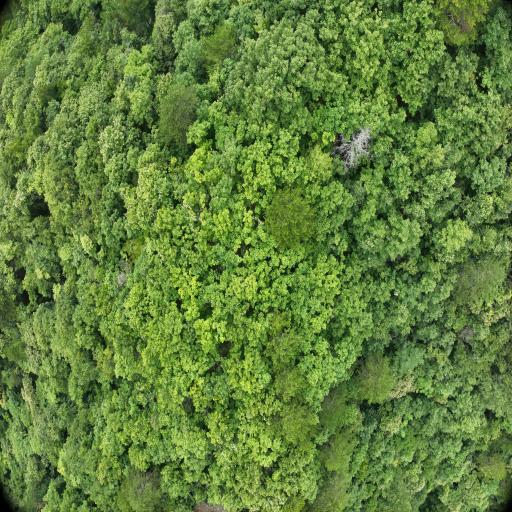dead-tree: (341, 135, 368, 163)
